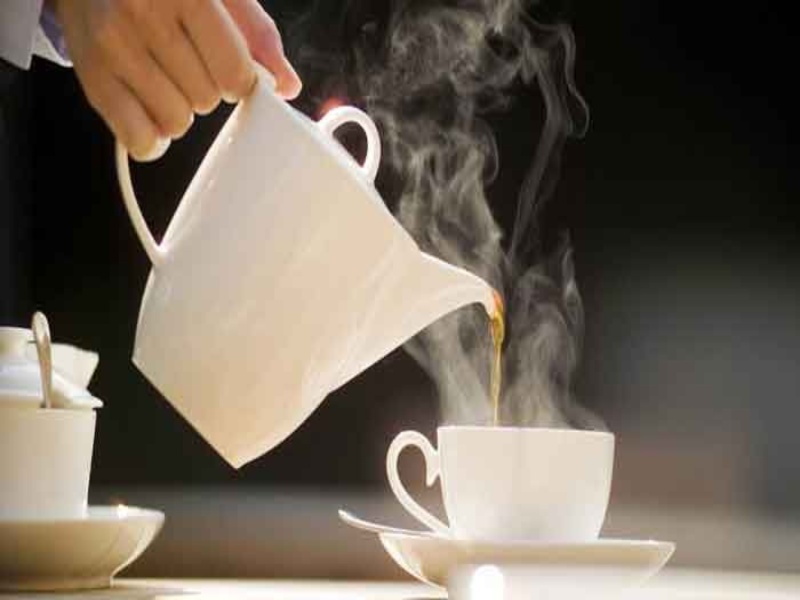smoke: (354, 1, 574, 434)
